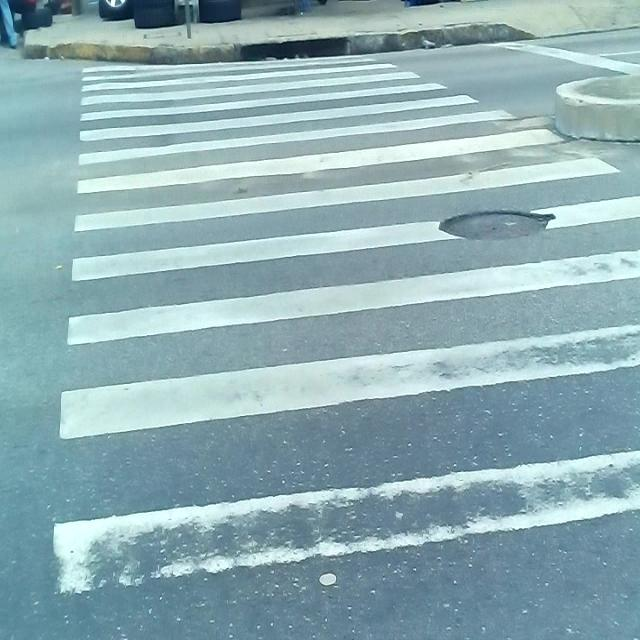crosswalk: (45, 53, 640, 640)
